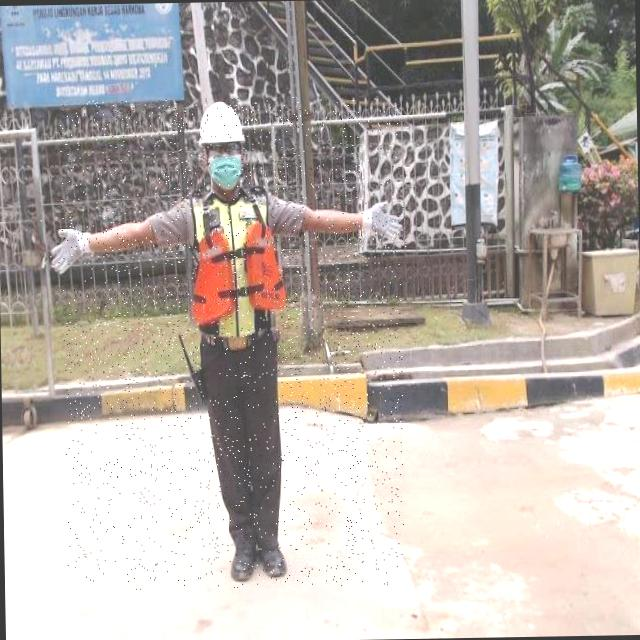boots: (260, 534, 294, 590), (228, 534, 262, 589)
gloves: (358, 180, 408, 256), (44, 214, 92, 292)
no-helmet: (186, 93, 263, 161)
vest: (176, 182, 292, 344)
